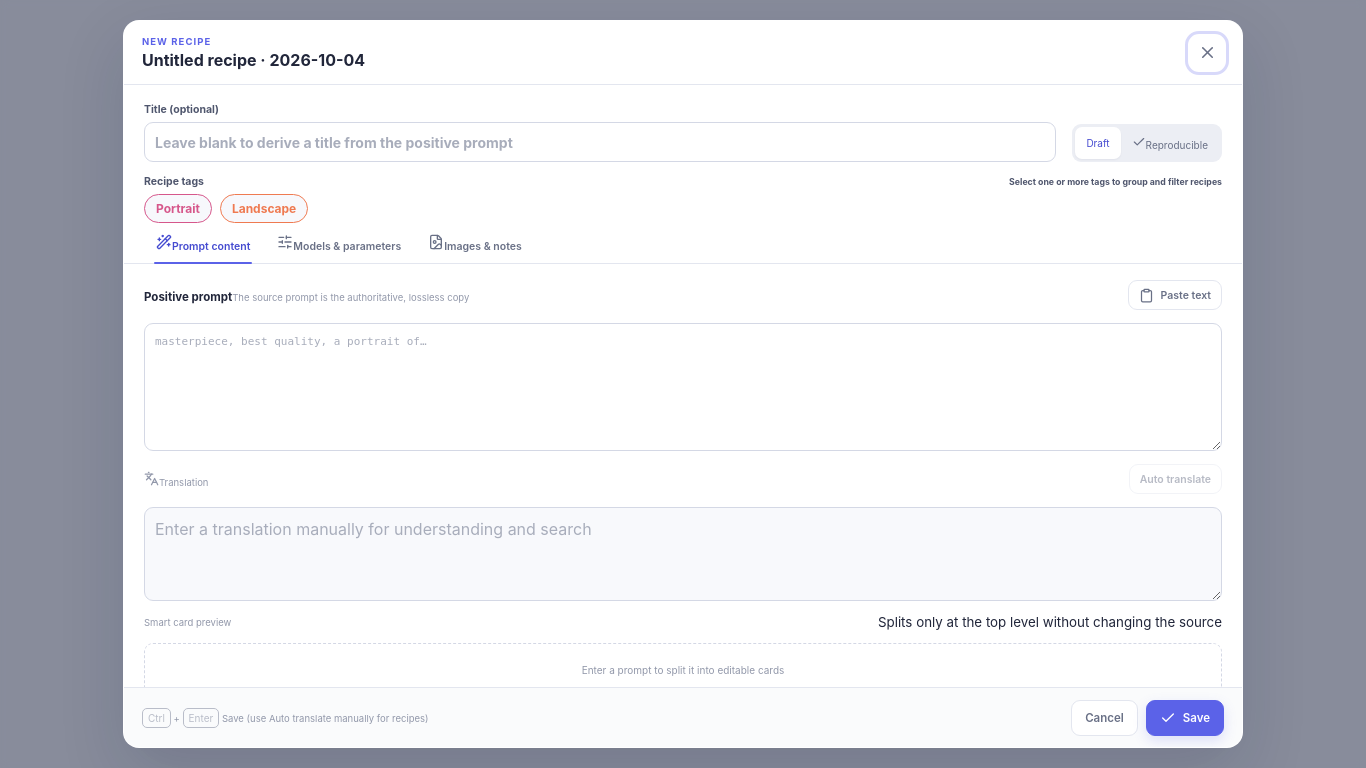
it: RecipeEditor save and resource selection › keeps the editor open and shows the backend error when saving fails
Type "失败反馈测试" into the field labelled "Title (optional)" at (600, 142), box left=144, top=122, right=1056, bottom=162
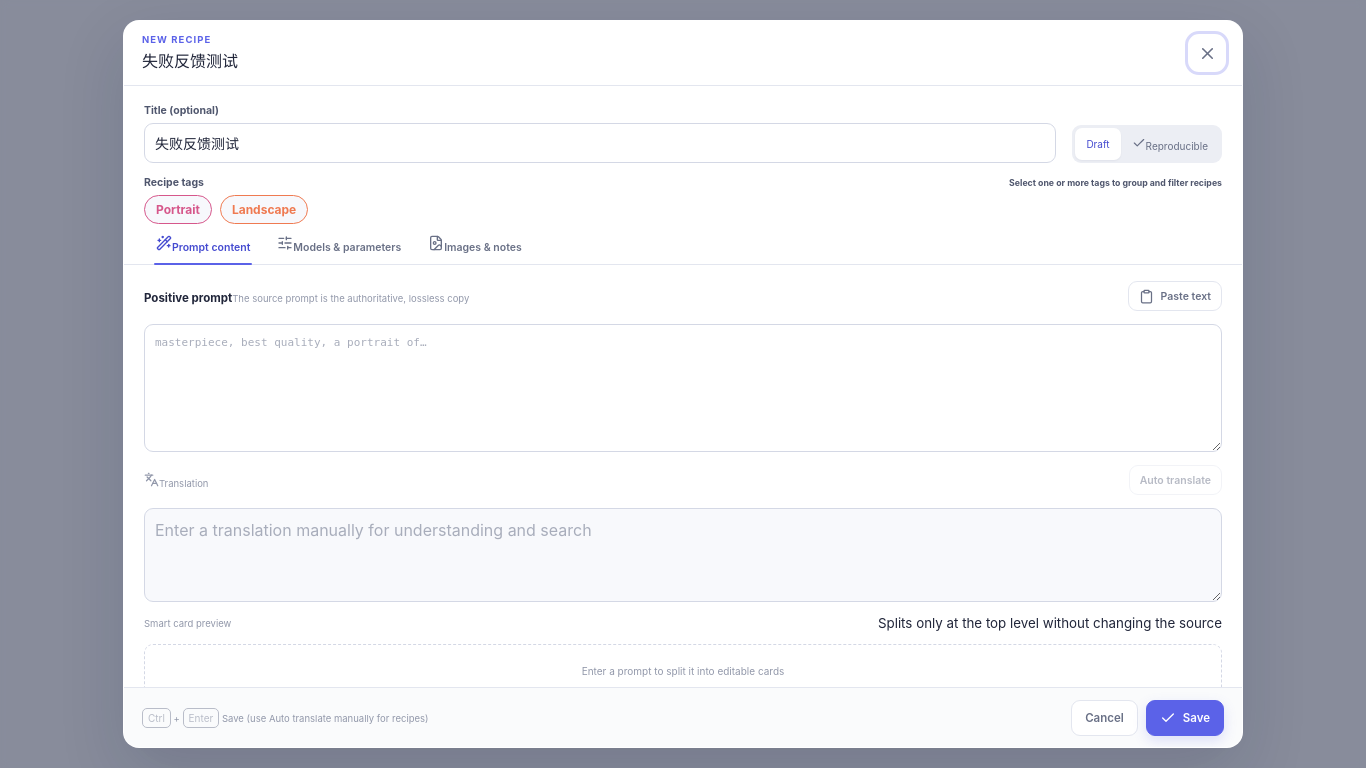
Click the button "Save" at (1185, 718), box left=1146, top=700, right=1224, bottom=736
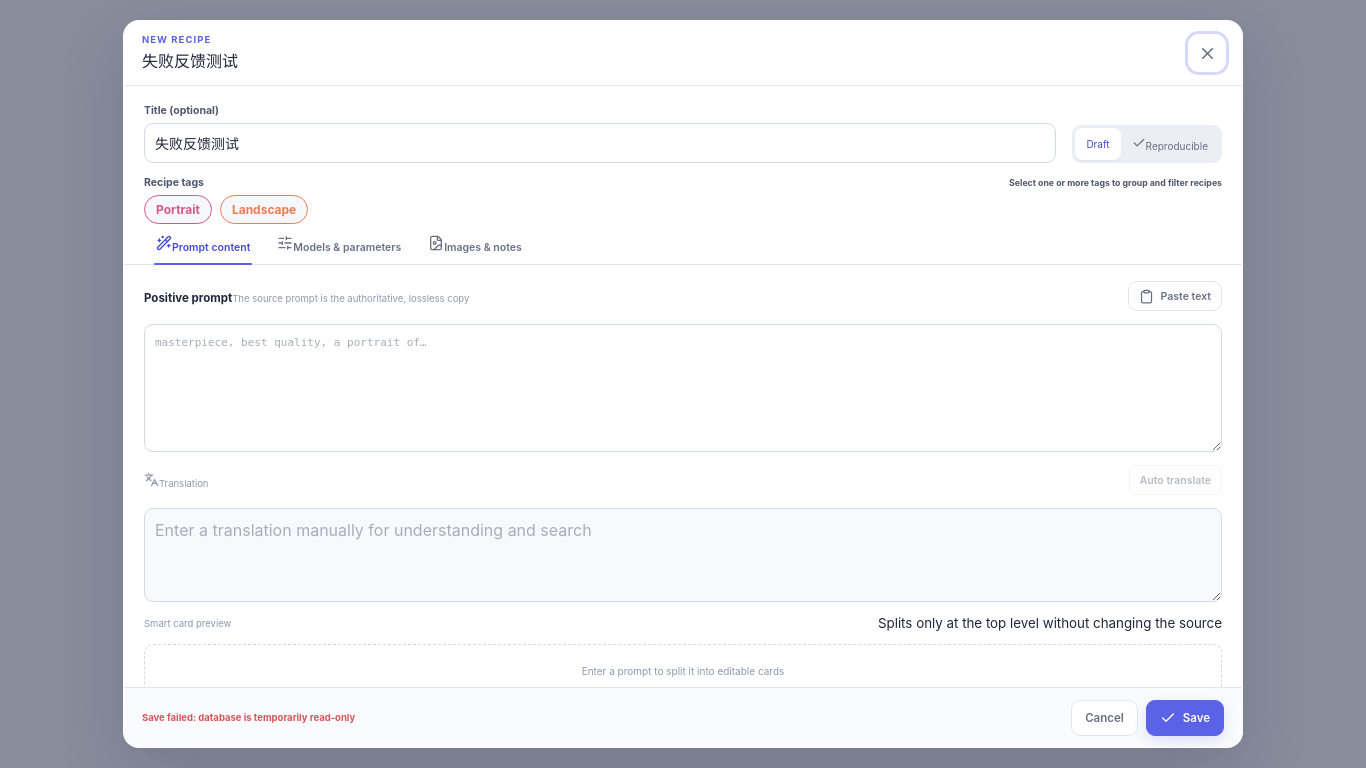
Result: the message reads "Save failed: database is temporarily read-only" at left=142, top=712, right=355, bottom=723
